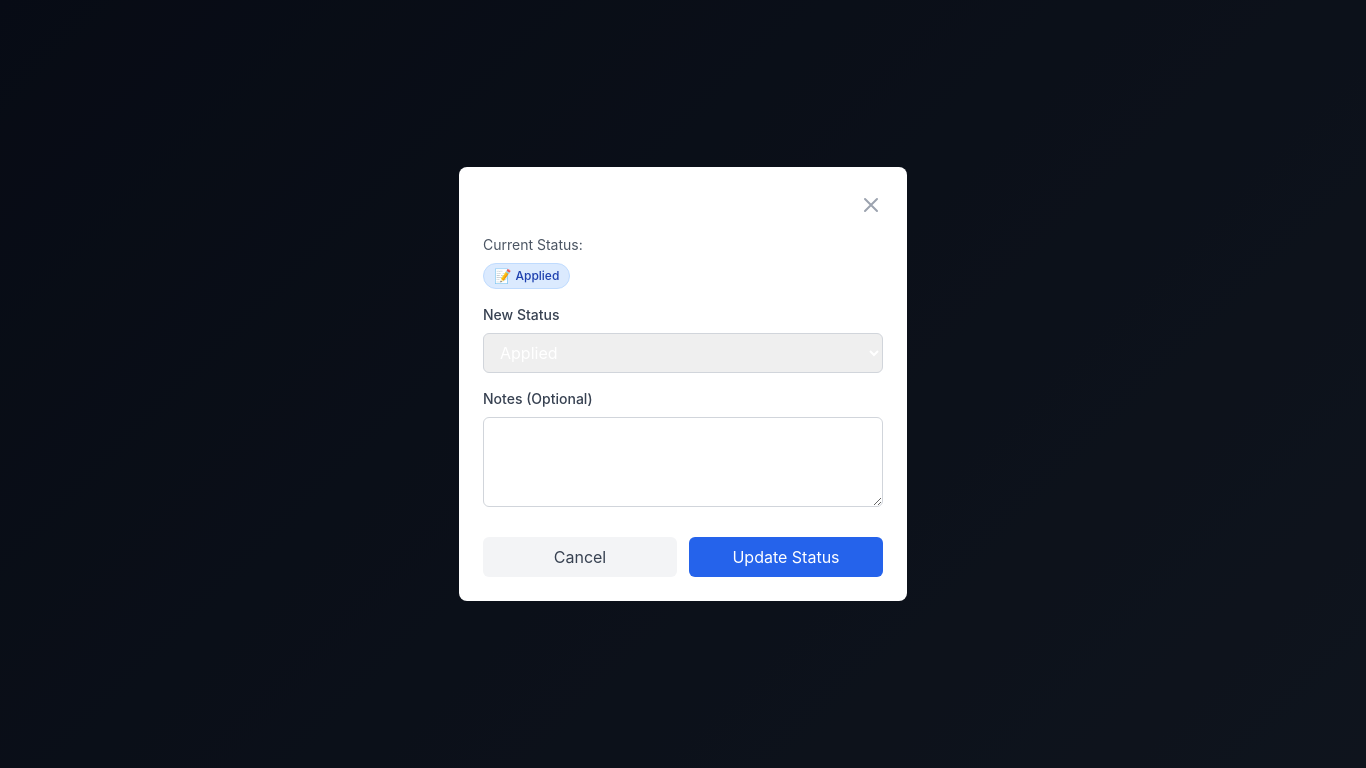
Test: StatusUpdateModal › should show loading state during submission
The image size is (1366, 768).
Click the button "Update Status": (786,557) top-left (689, 537), bottom-right (883, 577)
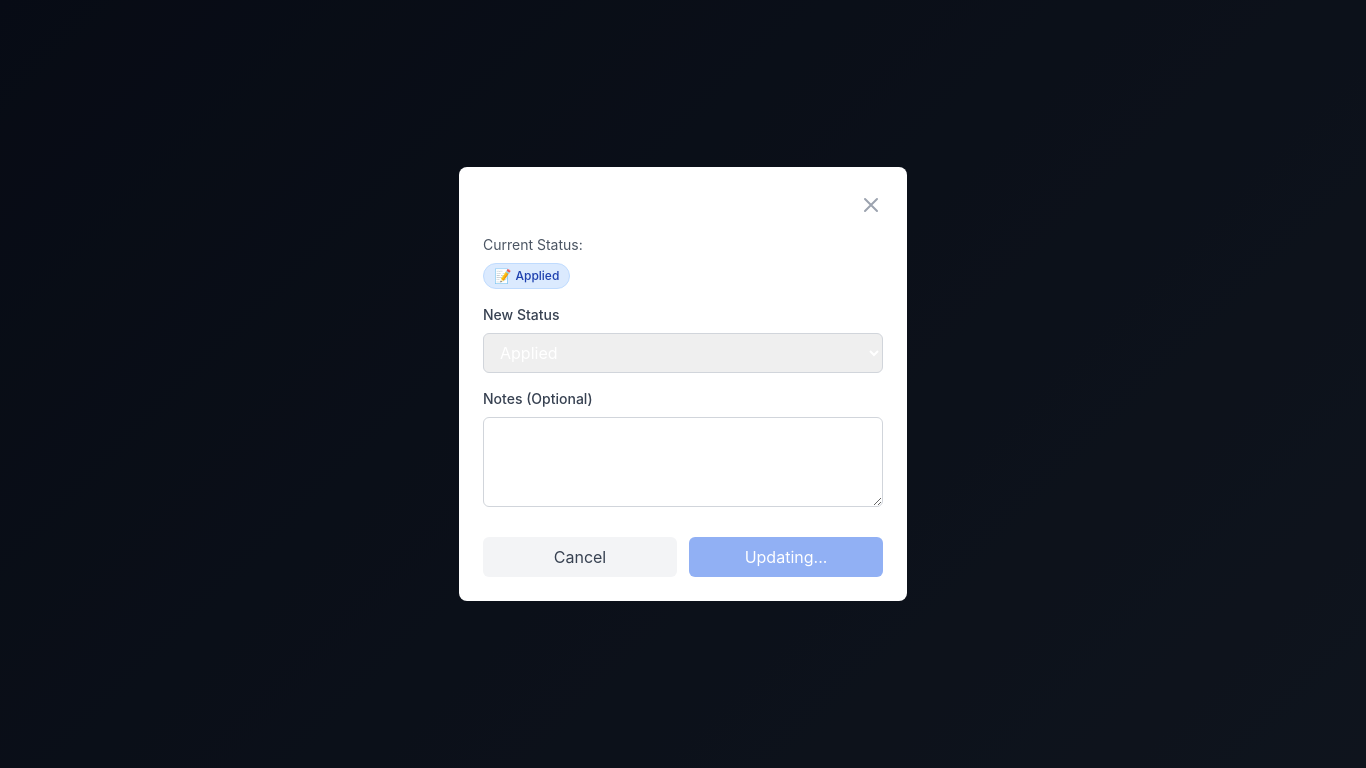
Expected: the button "Updating..." is disabled, top-left (689, 537), bottom-right (883, 577)
